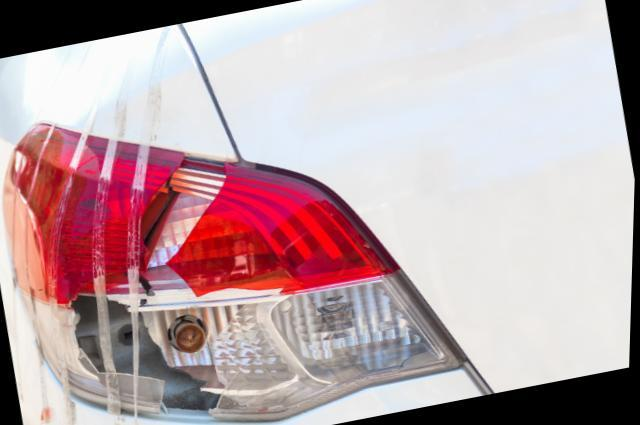lamp broken: (4, 122, 467, 420)
